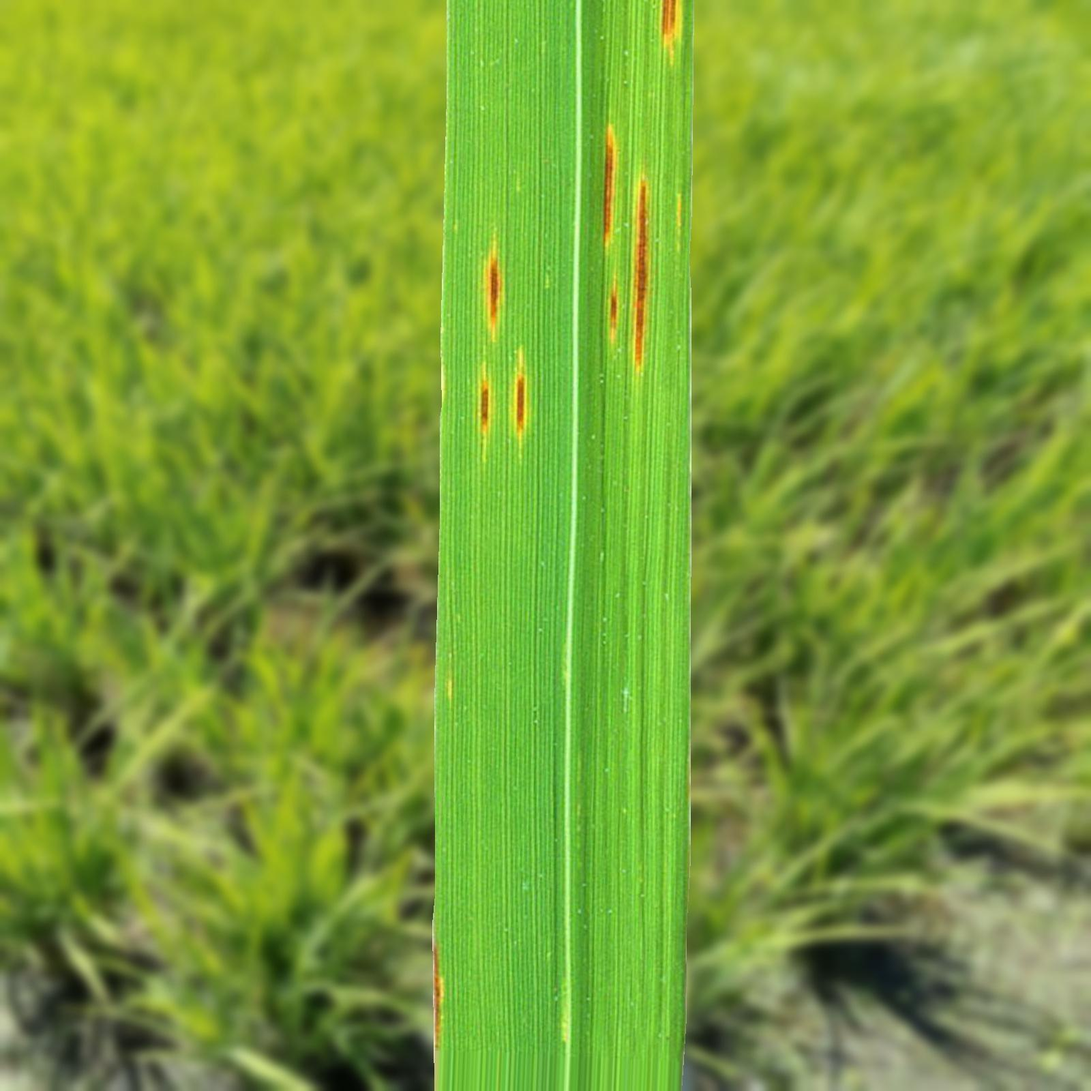LEAF: (432, 0, 693, 1090)
NBS: (633, 177, 651, 371), (603, 125, 615, 245), (433, 943, 443, 1047), (661, 0, 678, 59), (488, 256, 500, 335), (517, 374, 526, 436), (609, 282, 618, 343), (481, 378, 489, 431)
